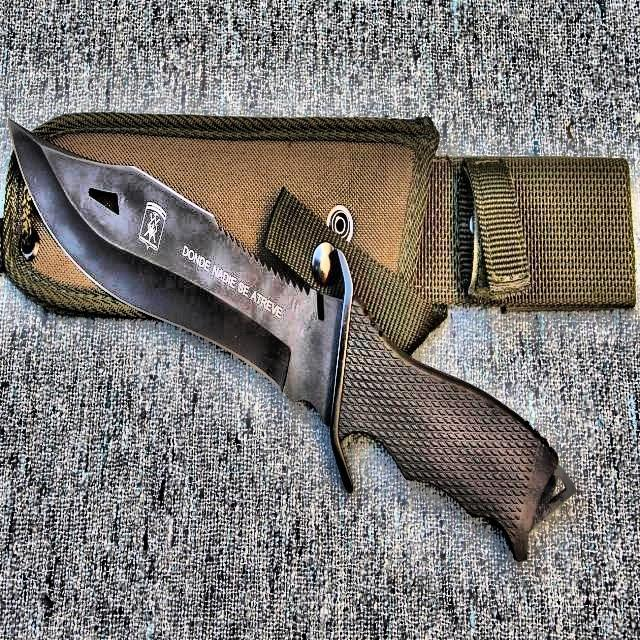knife: (9, 118, 575, 560)
